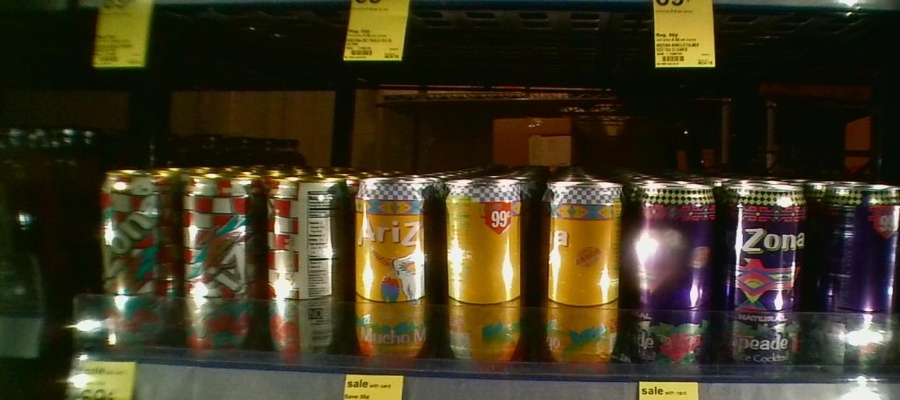bottle: (720, 178, 807, 385), (813, 177, 900, 382), (439, 179, 529, 371), (626, 177, 712, 375), (351, 172, 436, 367), (536, 181, 620, 372), (182, 166, 263, 361), (266, 171, 347, 365), (98, 162, 180, 352)
